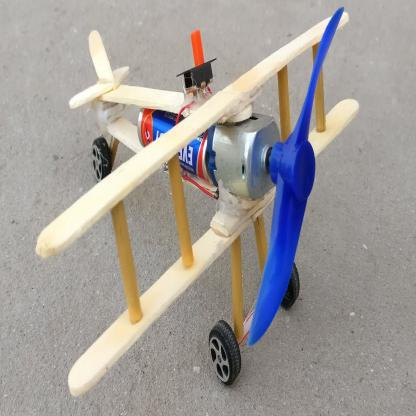CIV_Plane: (36, 11, 366, 400)
